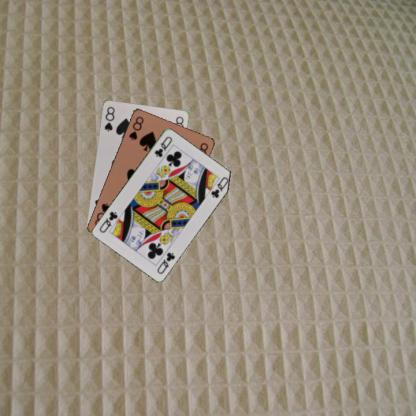8s: (126, 113, 145, 141), (102, 104, 116, 132)
Qc: (154, 249, 176, 275), (152, 133, 173, 159)
